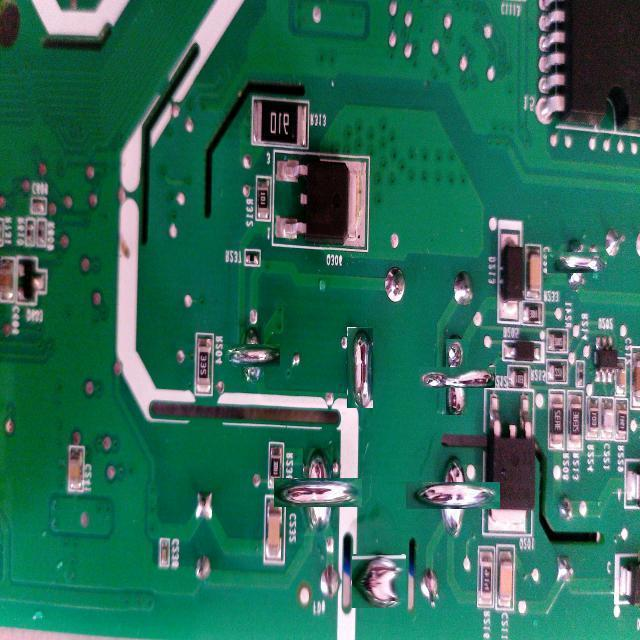Short_circuit: (422, 465, 483, 525), (289, 463, 348, 521), (352, 554, 406, 608), (432, 352, 482, 402), (347, 327, 373, 408), (556, 242, 598, 283), (233, 336, 272, 375)
